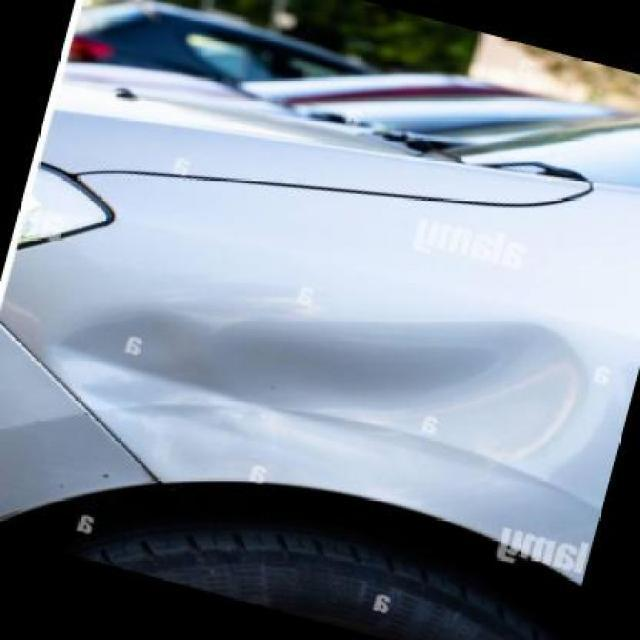dent: (60, 305, 590, 468)
